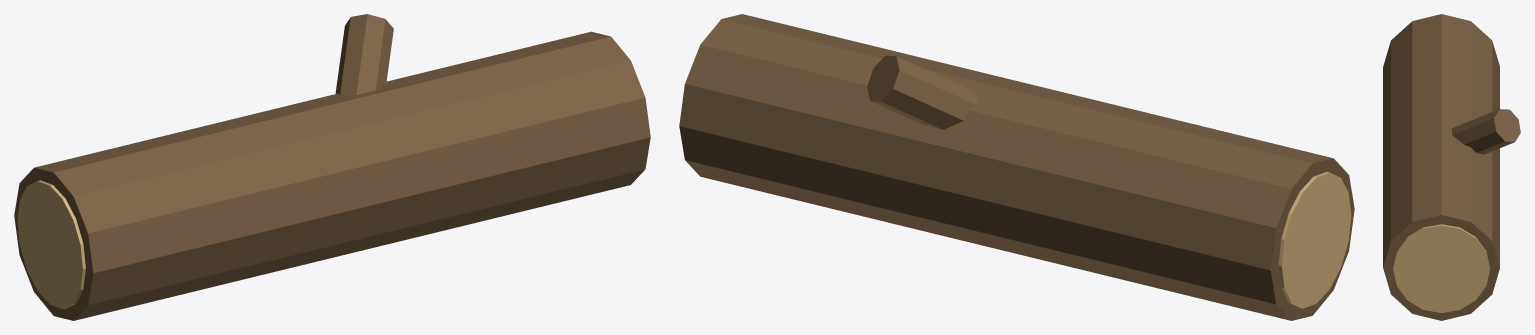
File: fallen_log.glb
3 views of the same model, side by side, from view 1: azimuth 30°, elevation 25°; view 2: azimuth 150°, elevation 25°; view 3: azimuth 270°, elevation 25° (orthographic). The views are drawn at different scales.
Parts seen in each view (by area): view 1: Keep_Mesh; view 2: Keep_Mesh; view 3: Keep_Mesh.
Part boxes in pixels (<box>): Keep_Mesh: <box>14,14,650,320</box>; Keep_Mesh: <box>679,14,1354,320</box>; Keep_Mesh: <box>1383,14,1520,320</box>.
Bounding box in the file's own units: 2.63 × 0.8344 × 0.7534.
